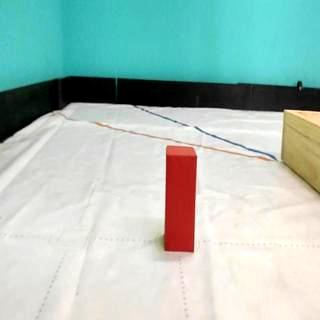redbox: (165, 145, 195, 252)
